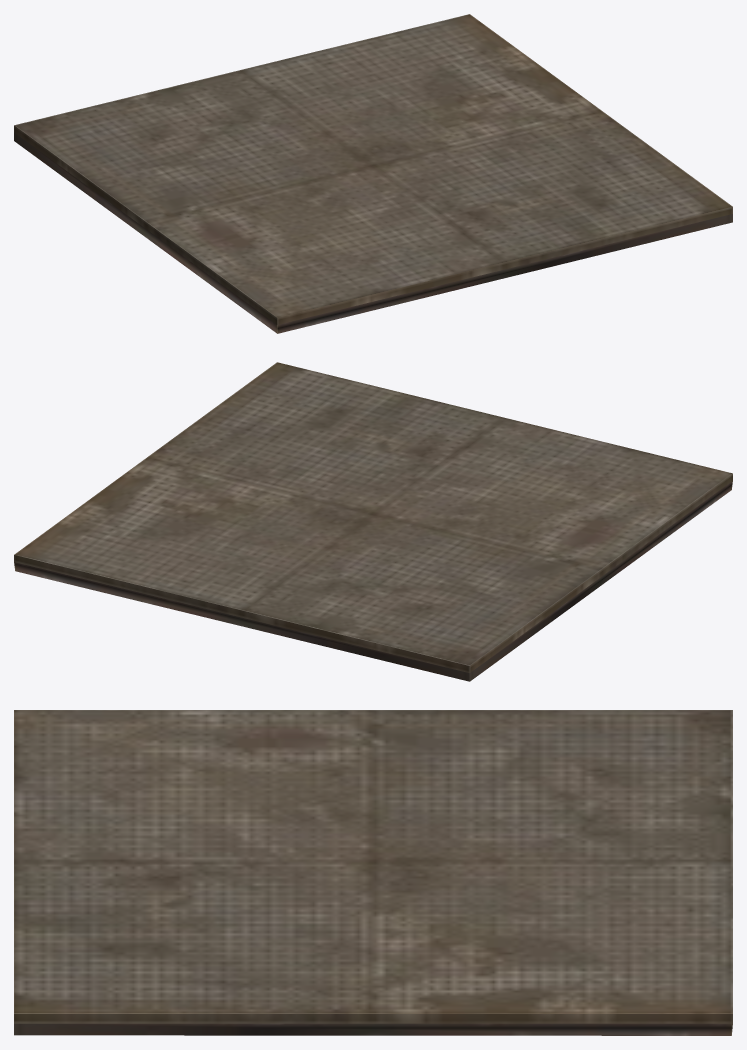
File: floor.metal.glb
3 views of the same model, one above another, from view 1: azimuth 30°, elevation 25°; view 2: azimuth 150°, elevation 25°; view 3: azimuth 270°, elevation 25° (orthographic). The views are drawn at different scales.
Parts seen in each view (by area): view 1: LOD0; view 2: LOD0; view 3: LOD0.
Boxes of the visible parts, x1,y1,x2,y2 form: LOD0: (14, 14, 732, 333); LOD0: (14, 362, 732, 681); LOD0: (14, 710, 732, 1035).
Bounding box in the file's own units: 3 × 0.1036 × 3.
1 material, 1 textured.
